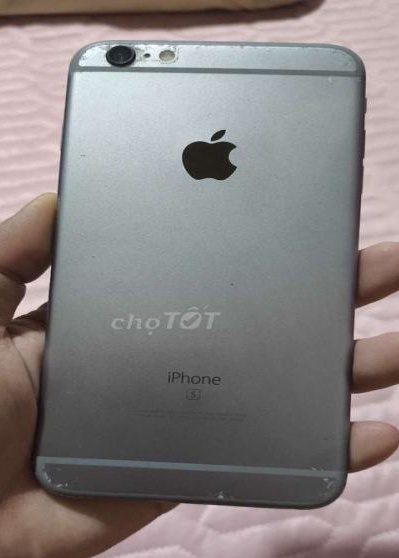scratch: (61, 28, 374, 74), (291, 450, 374, 509), (34, 447, 107, 508), (210, 477, 255, 504)
